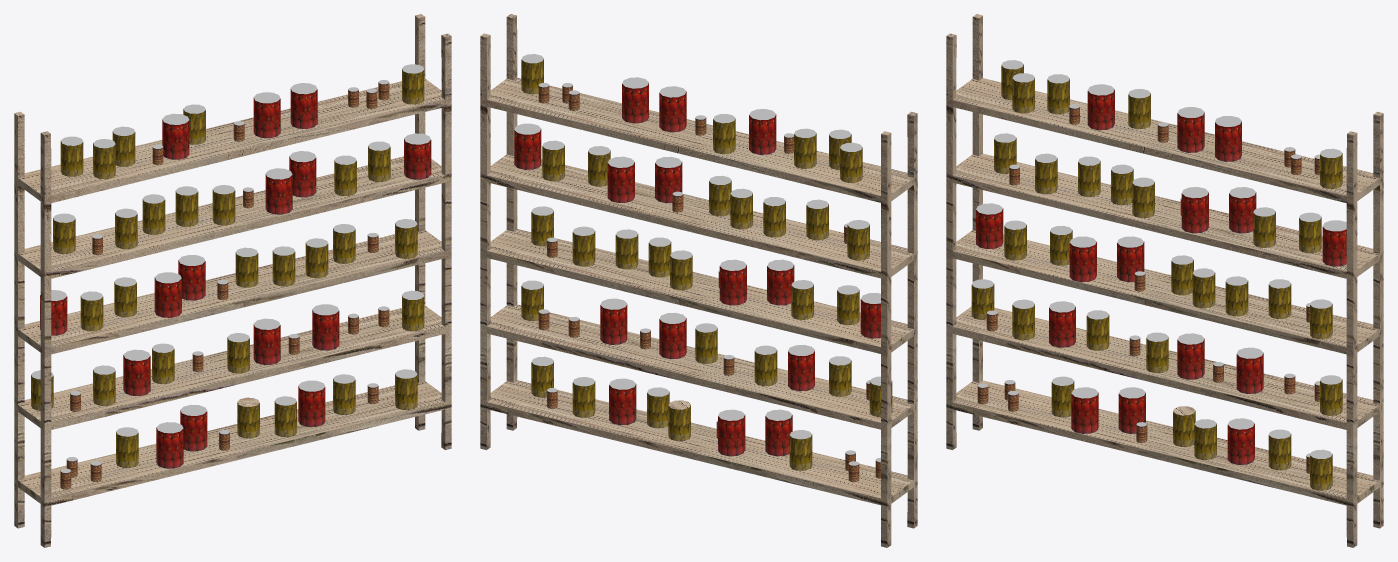
The model's file is Shkaf_s_solenyami.FBX.
3 views of the same model, side by side, from view 1: azimuth 30°, elevation 25°; view 2: azimuth 150°, elevation 25°; view 3: azimuth 330°, elevation 25° (orthographic).
Visible parts, largest first — view 1: Cylinder001; view 2: Cylinder001; view 3: Cylinder001.
Part boxes in pixels (left/top/right/bottom): Cylinder001: left=14, top=14, right=451, bottom=547; Cylinder001: left=480, top=14, right=917, bottom=547; Cylinder001: left=946, top=14, right=1383, bottom=547.
Bounding box in the file's own units: 3.1 × 3 × 0.4027.
